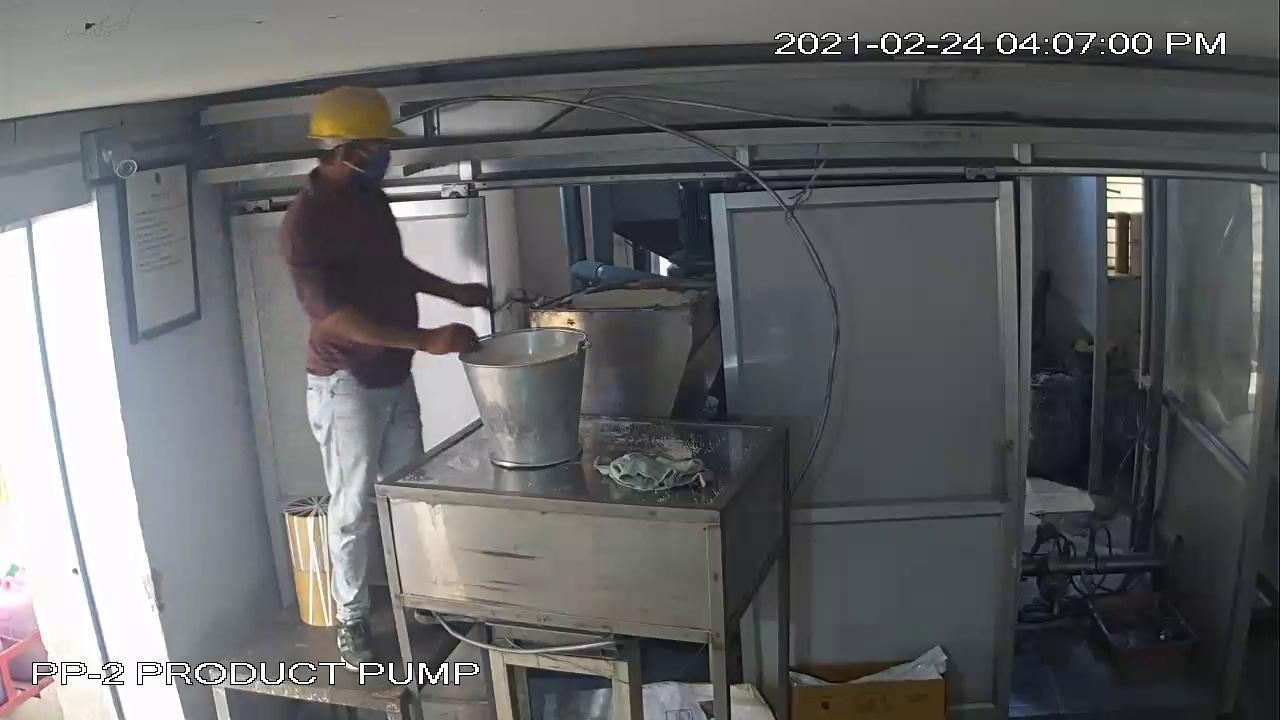helmet: (304, 78, 427, 170)
